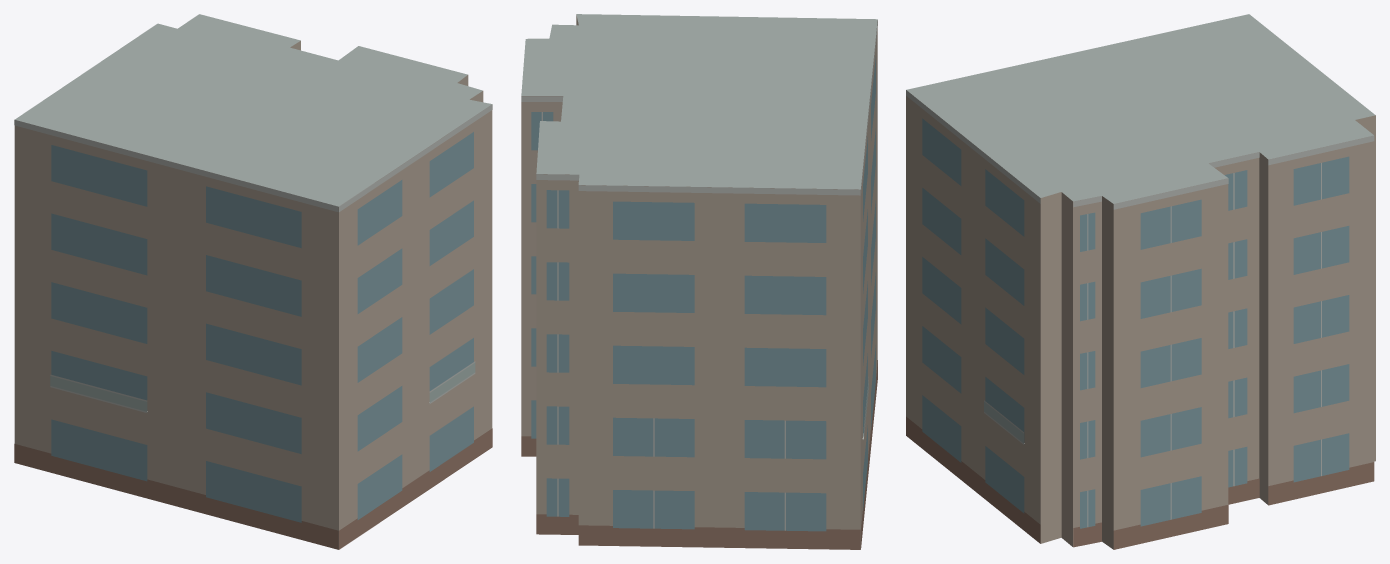
Rendered from survey-upis-32893697.glb.
The picture shows the model from 3 angles, left to right: view 1: azimuth 30°, elevation 25°; view 2: azimuth 150°, elevation 25°; view 3: azimuth 270°, elevation 25°; orthographic projection. The views are drawn at different scales.
Visible parts, largest first — view 1: survey-upis-32893697.tmp; view 2: survey-upis-32893697.tmp; view 3: survey-upis-32893697.tmp.
Boxes of the visible parts, bbox=[...] form: survey-upis-32893697.tmp: bbox=[14, 14, 492, 549]; survey-upis-32893697.tmp: bbox=[521, 14, 877, 549]; survey-upis-32893697.tmp: bbox=[906, 14, 1375, 549].
Size of the model in its own units: 17.21 by 14.6 by 17.98.
